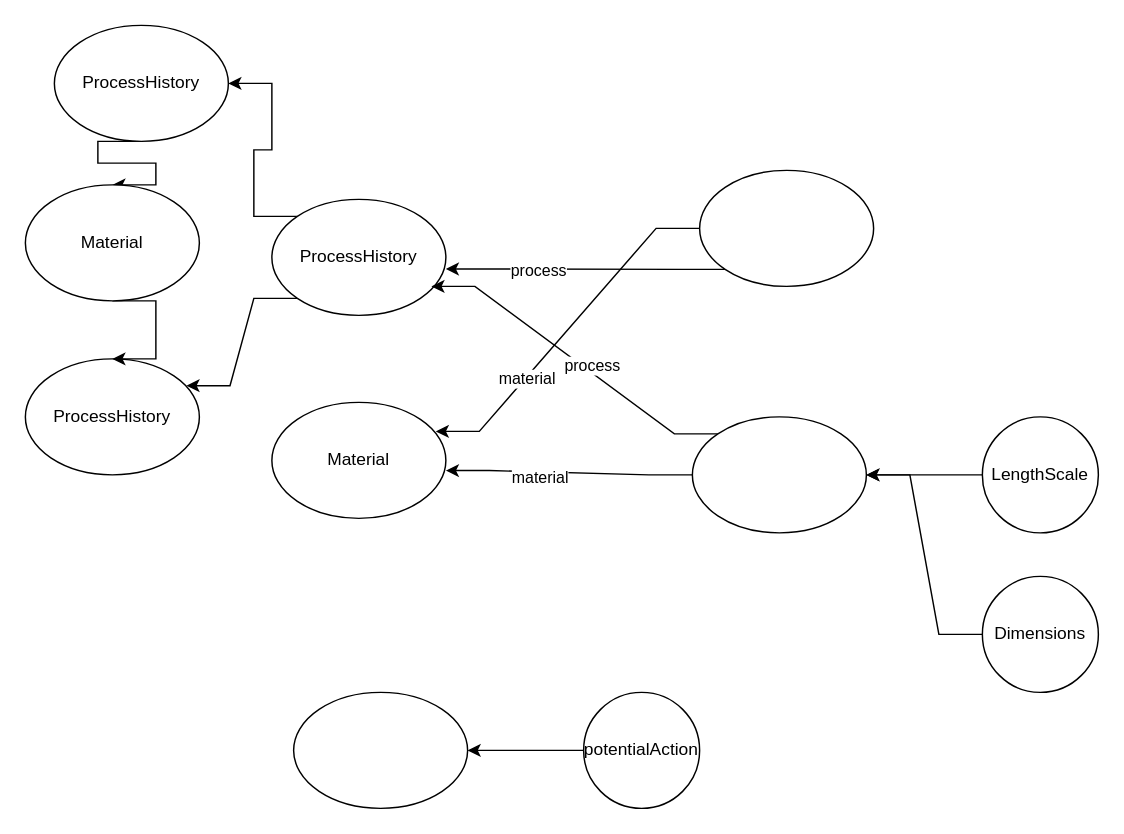
This 1124x834 diagram has some shape labels left out. Here are the shapes that lost their labels. From the top down, the centre of each, then its label:
(786,227): MaterialProperty
(778,474): MaterialStructure
(380,749): Thing
